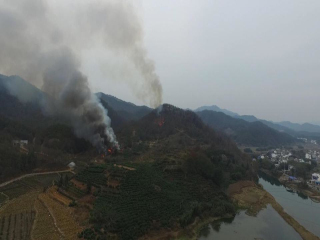smoke: (2, 11, 168, 158)
